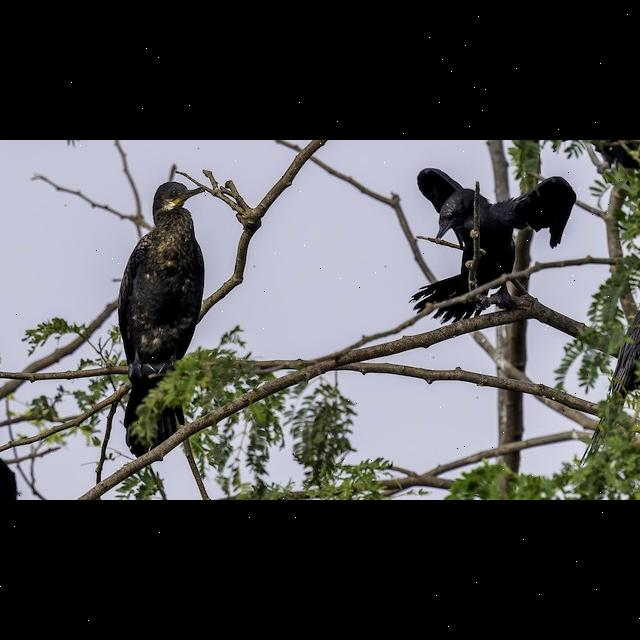cormorant: (118, 177, 212, 371)
